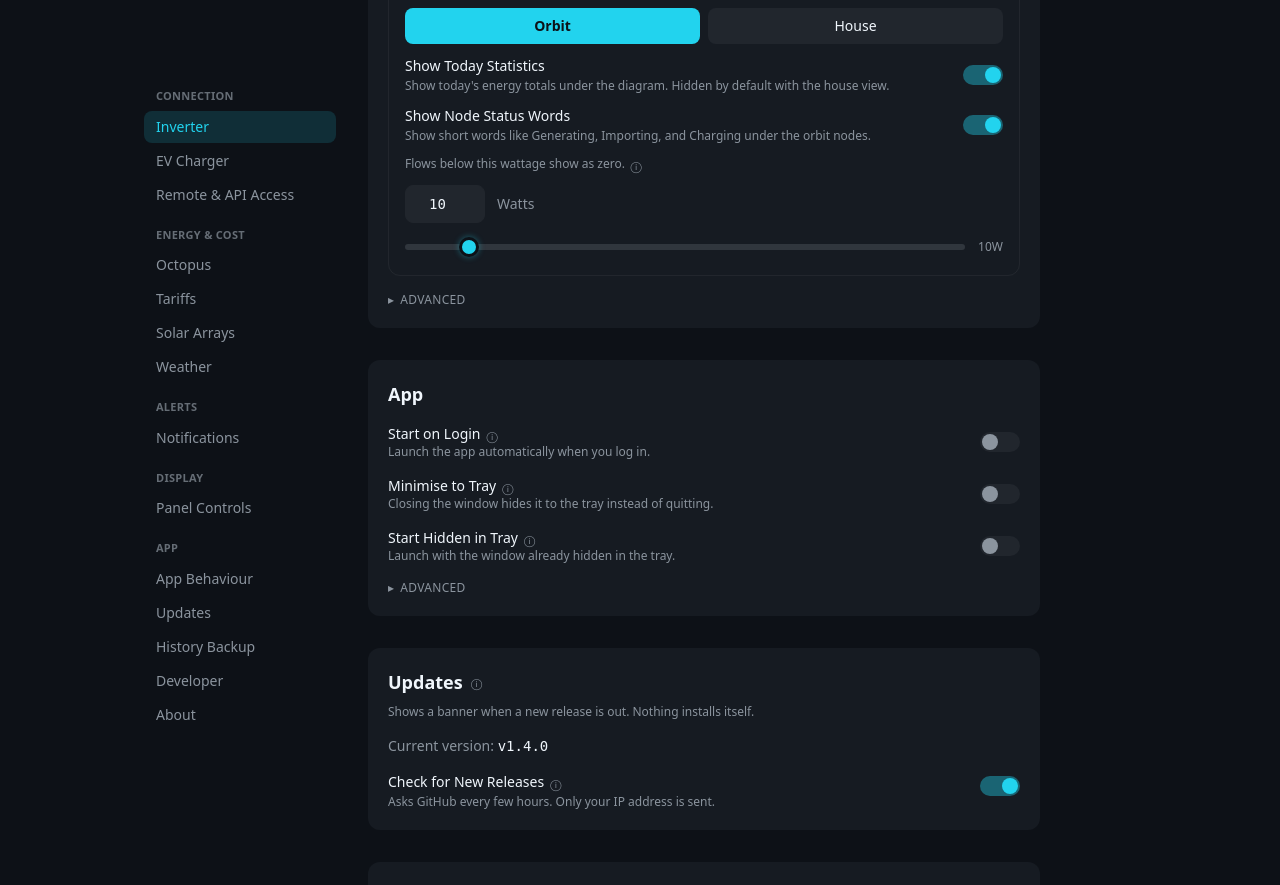
<SettingsPage/> — Start on Login (Tauri shell) › puts the toggle back and explains both failures when neither route works
The width and height of the screenshot is (1280, 885).
(page scrolled)
Expected: the text "Start on Login" is shown, [388,424,480,443]
Click the switch named "Start on Login": {"x": 1000, "y": 442} [980,432,1020,452]
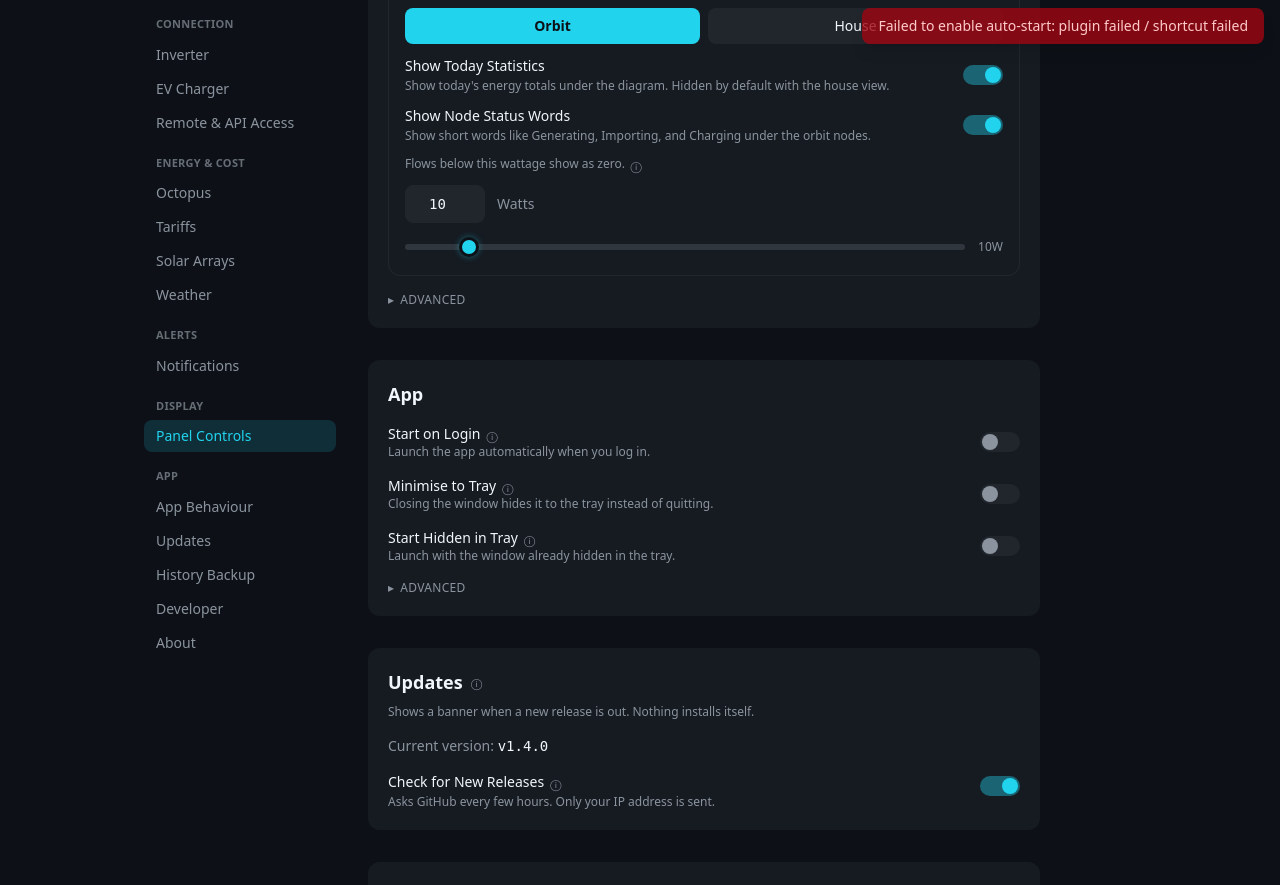
Now the text "Failed to enable auto-start: plugin failed / shortcut failed" is shown, box [862,8,1264,44]
